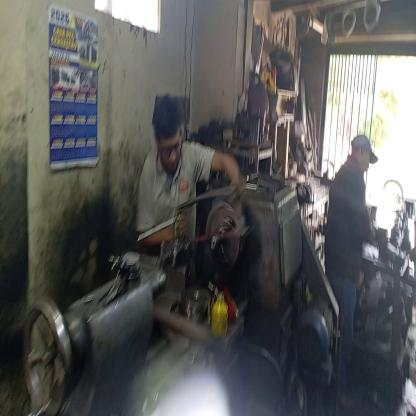lentes: (154, 132, 183, 163)
